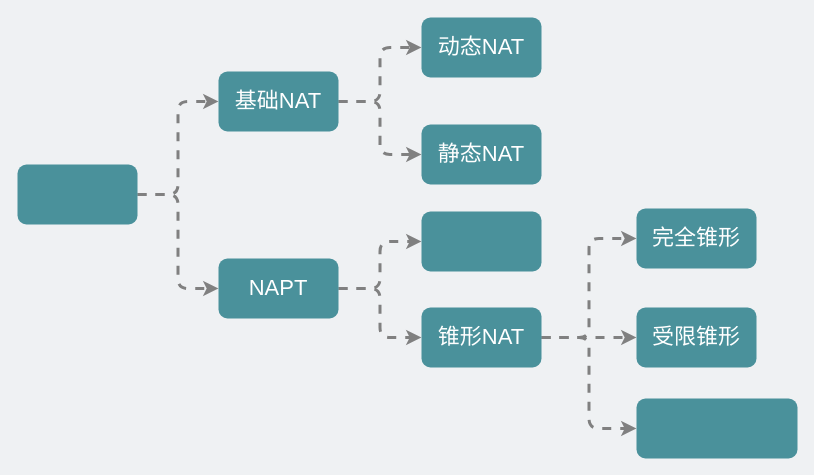
This 814x475 diagram has some shape labels left out. The centre of each missing label's shape, as x and y in pixels:
NAT: point (77, 194)
对称NAT: point (481, 241)
端口受限锥形: point (716, 428)
